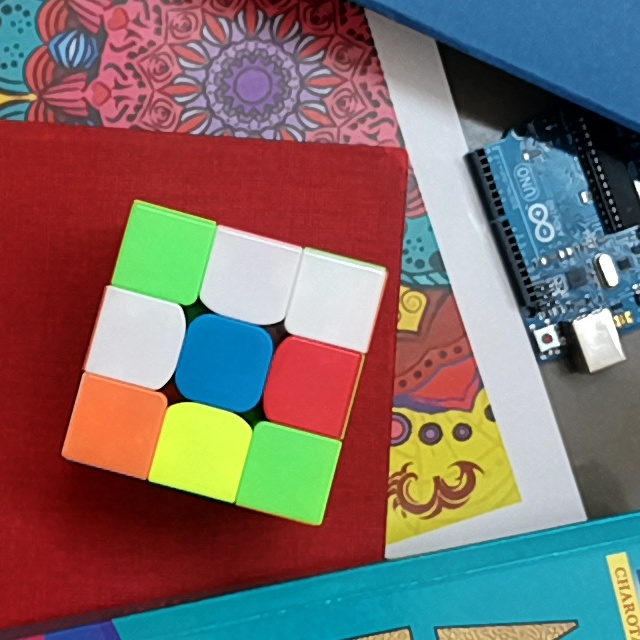tile: (168, 417, 237, 484), (80, 395, 150, 459), (105, 306, 172, 372), (191, 332, 256, 398), (279, 353, 344, 418), (254, 439, 321, 502), (130, 222, 194, 286), (304, 268, 366, 332), (216, 249, 281, 309)
